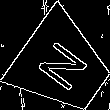N_SE: (32, 35, 94, 97)
